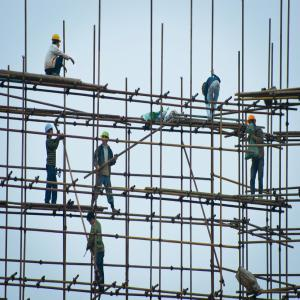blue: (46, 124, 55, 139)
none: (88, 214, 98, 228)
yellow: (52, 34, 62, 49), (101, 132, 110, 146), (248, 115, 257, 127), (202, 81, 207, 95)
